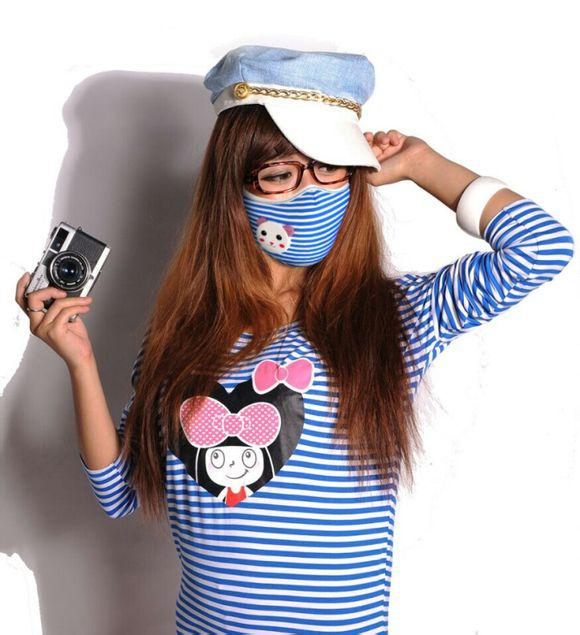OK: (240, 143, 363, 266)
